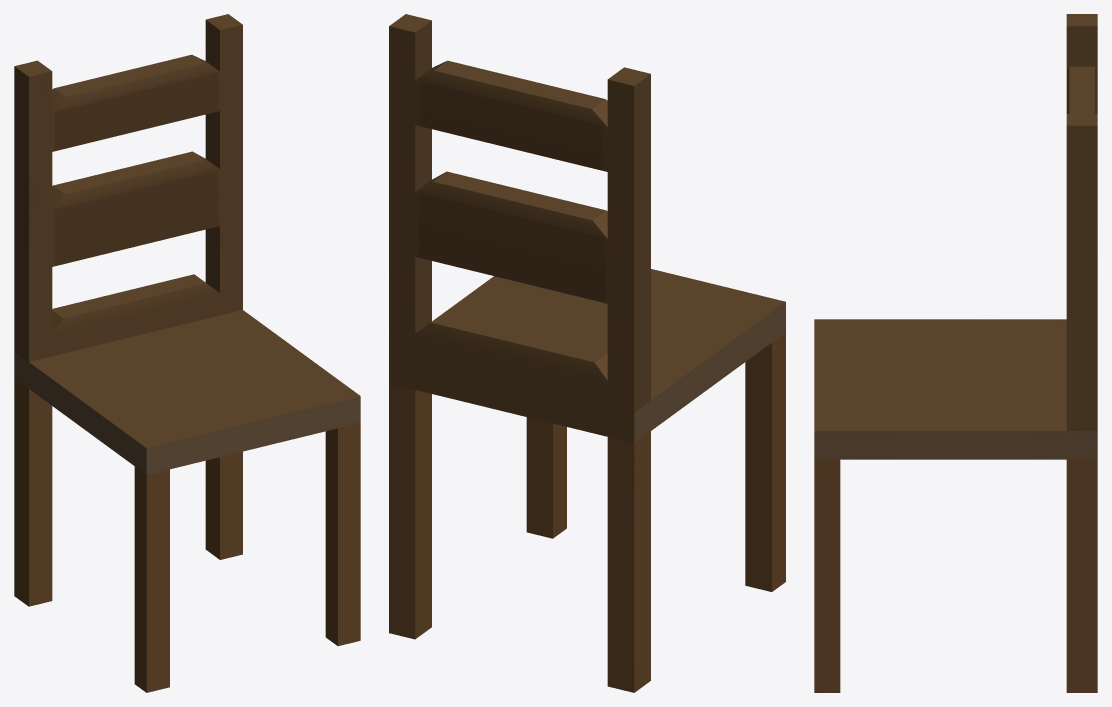
The model's file is Chair.fbx.
3 renders of one model, left to right at view 1: azimuth 30°, elevation 25°; view 2: azimuth 150°, elevation 25°; view 3: azimuth 270°, elevation 25°, orthographic. The views are drawn at different scales.
Parts seen in each view (by area): view 1: Chair; view 2: Chair; view 3: Chair.
Boxes of the visible parts, x1,y1,x2,y2 form: Chair: (14,14,360,692); Chair: (389,14,785,692); Chair: (814,14,1097,692).
Bounding box in the file's own units: 150 × 355 × 161.
1 material, 1 textured.
